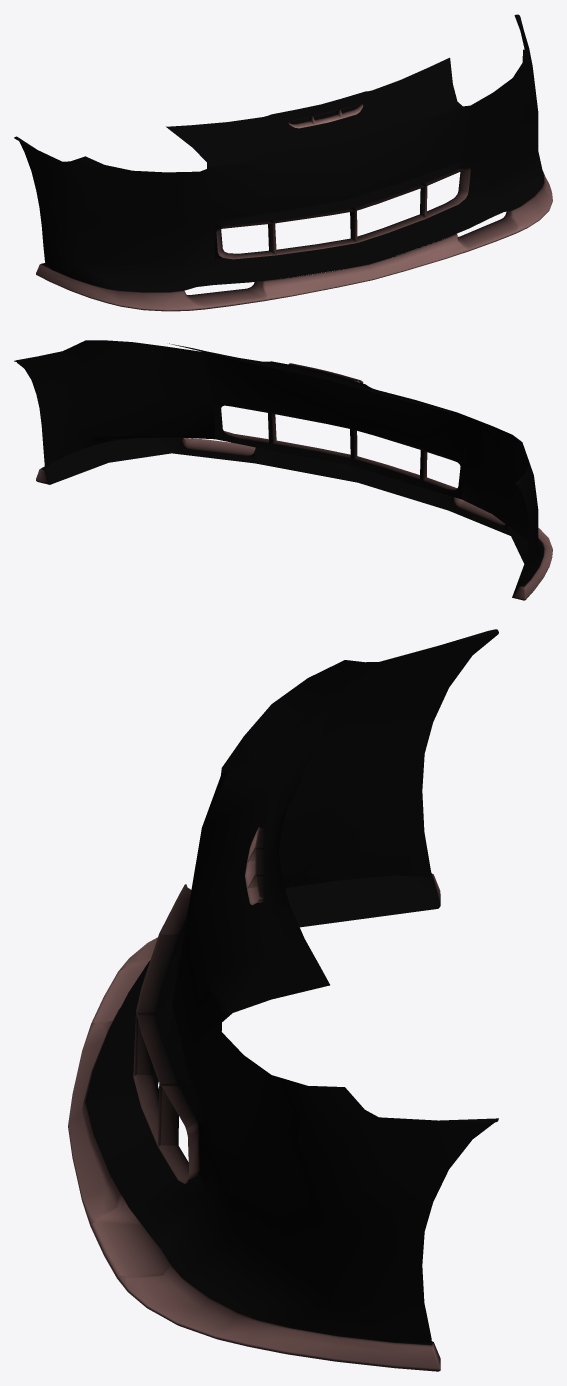
File: Zr1_FB_03_Trim.fbx
3 views of the same model, one above another, from view 1: azimuth 30°, elevation 25°; view 2: azimuth 150°, elevation 25°; view 3: azimuth 270°, elevation 25° (orthographic). The views are drawn at different scales.
Visible parts, largest first — view 1: Zr1_FB_03_Trim; view 2: Zr1_FB_03_Trim; view 3: Zr1_FB_03_Trim.
Boxes of the visible parts, left/top/right/bottom form: Zr1_FB_03_Trim: left=14, top=14, right=552, bottom=311; Zr1_FB_03_Trim: left=14, top=340, right=552, bottom=600; Zr1_FB_03_Trim: left=68, top=629, right=498, bottom=1371.
Size of the model in its own units: 187 by 50.84 by 69.05.
